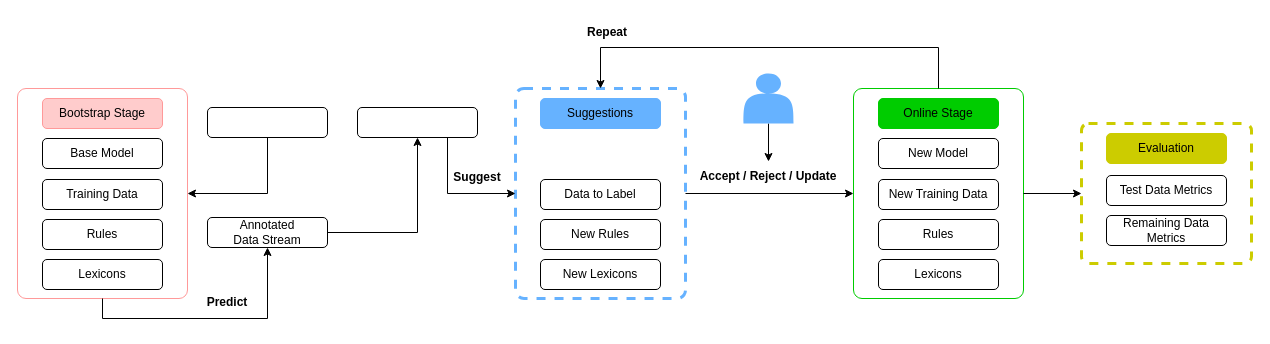
This 1270x344 diagram has some shape labels left out. The centre of each missing label's shape, as x and y in pixels:
"Query Strategy" goes at (417,122).
"Unlabeled Data Stream" goes at (267,122).
"User" goes at (768,98).
